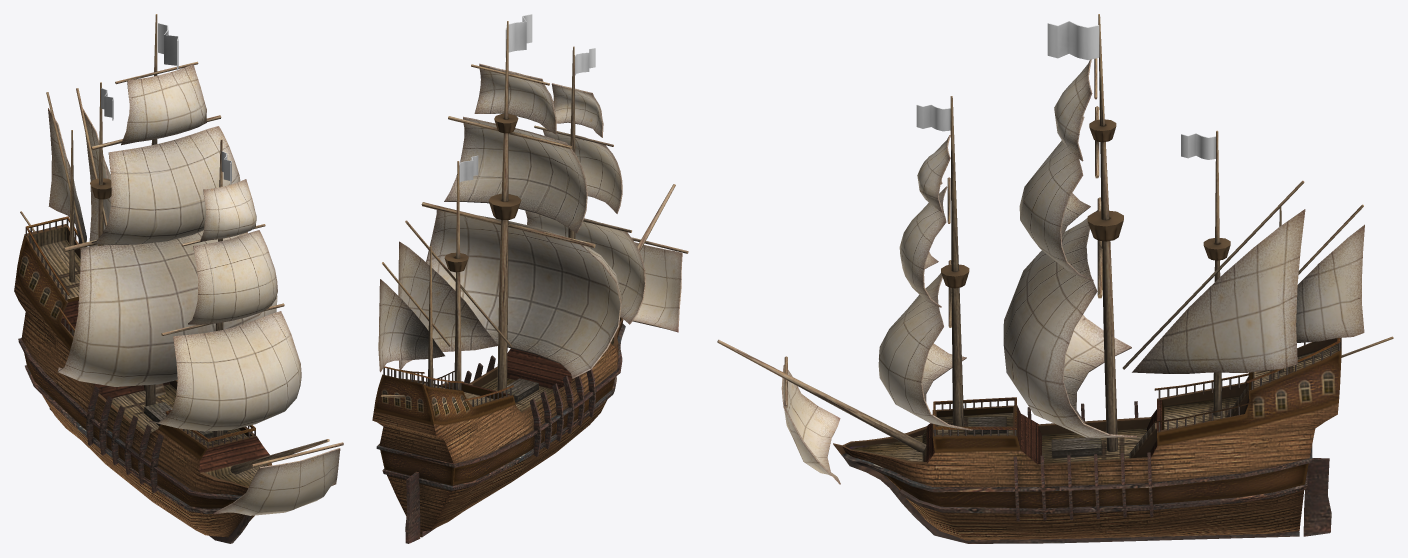
The model's file is ship_lvl_4.fbx.
3 views of the same model, side by side, from view 1: azimuth 30°, elevation 25°; view 2: azimuth 150°, elevation 25°; view 3: azimuth 270°, elevation 25° (orthographic). The views are drawn at different scales.
Visible parts, largest first — view 1: ship_lvl_4; view 2: ship_lvl_4; view 3: ship_lvl_4.
Boxes of the visible parts, x1,y1,x2,y2 form: ship_lvl_4: [14, 14, 343, 543]; ship_lvl_4: [372, 14, 688, 543]; ship_lvl_4: [717, 14, 1393, 543].
Size of the model in its own units: 68.16 by 153 by 177.
